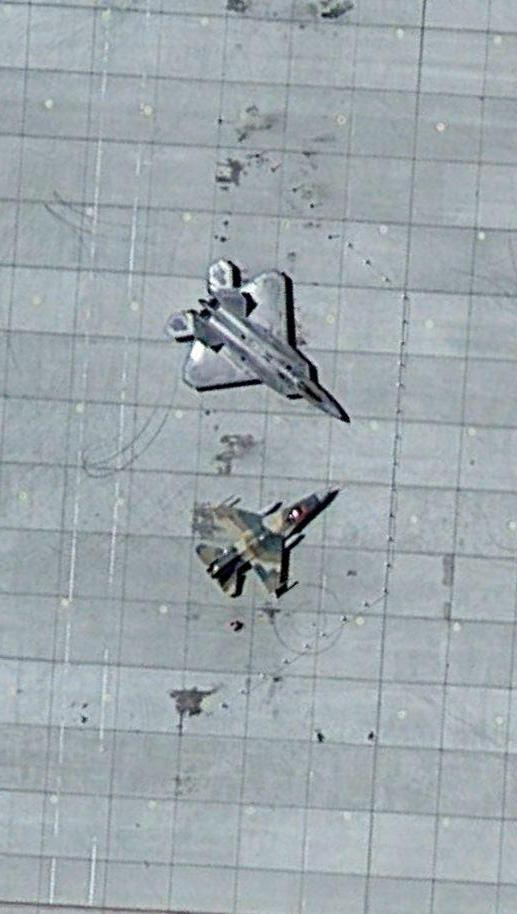F-16: (193, 477, 347, 600)
F-22: (160, 254, 366, 431)
